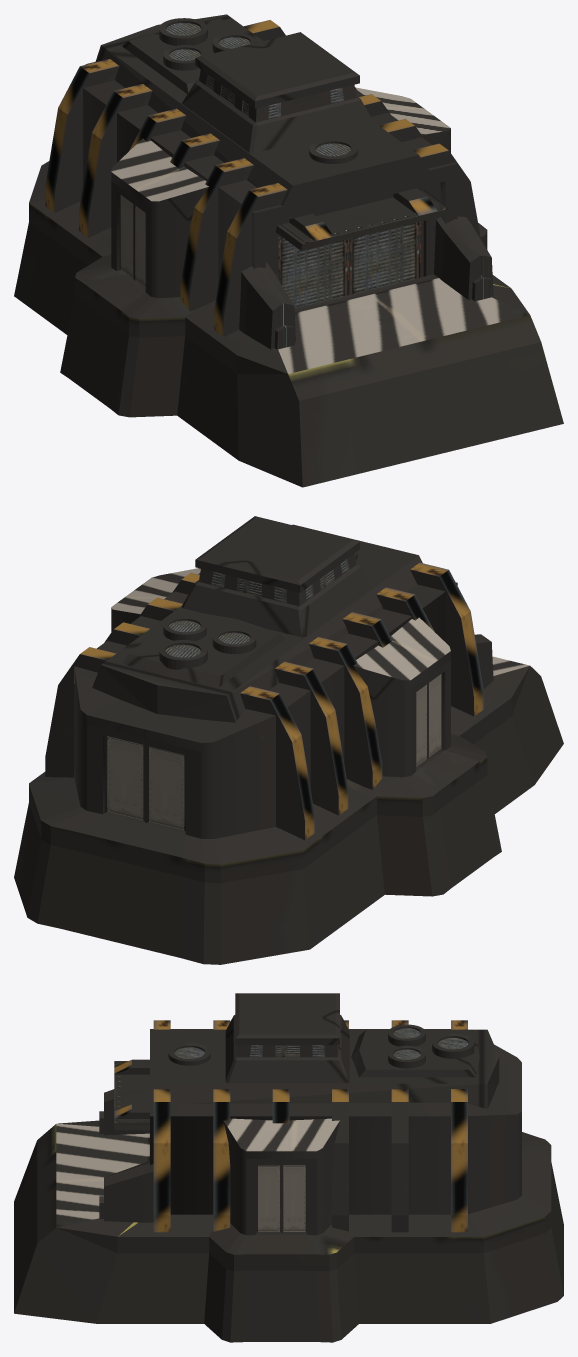
Rendered from barracks.dae.
3 renders of one model, top to bottom at view 1: azimuth 30°, elevation 25°; view 2: azimuth 150°, elevation 25°; view 3: azimuth 270°, elevation 25°, orthographic. The views are drawn at different scales.
Parts seen in each view (by area): view 1: cc_m; view 2: cc_m; view 3: cc_m.
Part boxes in pixels (x1,y1,x2,y2): cc_m: (14,14,563,487); cc_m: (14,516,563,964); cc_m: (14,993,563,1342).
Bounding box in the file's own units: 27.75 × 39.22 × 19.39.
